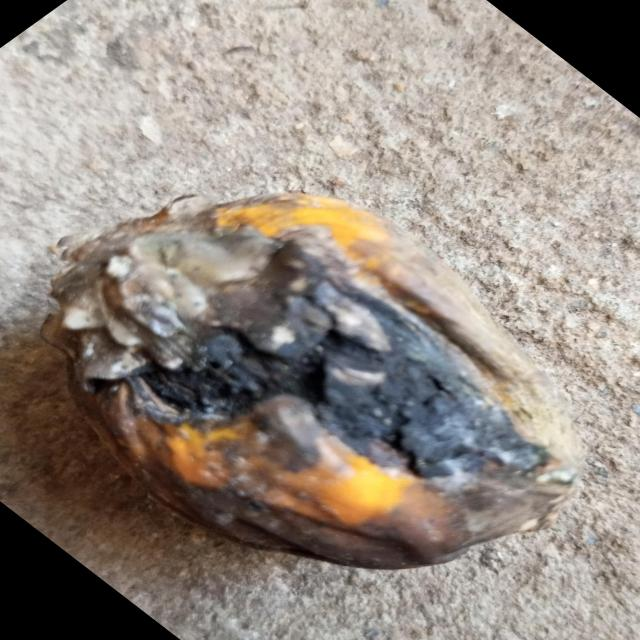damaged: (40, 193, 585, 573)
